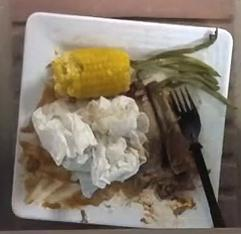corn: (51, 48, 129, 97)
green_beans: (131, 29, 227, 104)
unknown: (124, 137, 177, 199)
